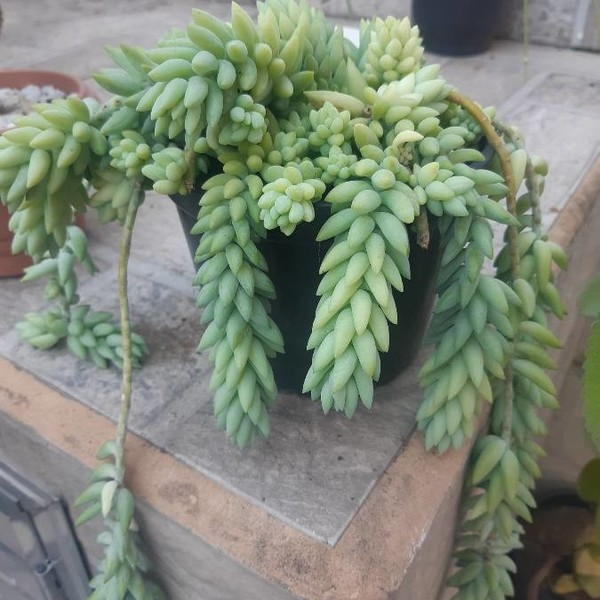obstacle: (39, 4, 543, 418)
